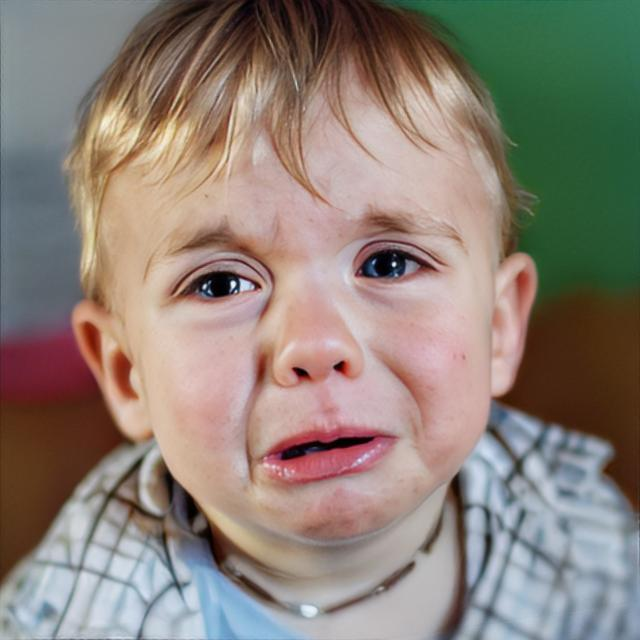sad: (137, 57, 493, 544)
